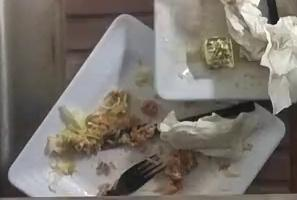taco_mix: (44, 90, 153, 173)
